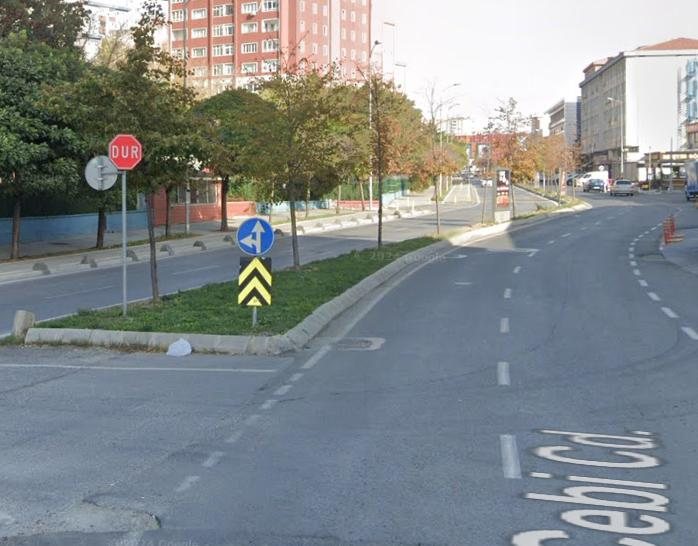stop: (109, 134, 142, 170)
